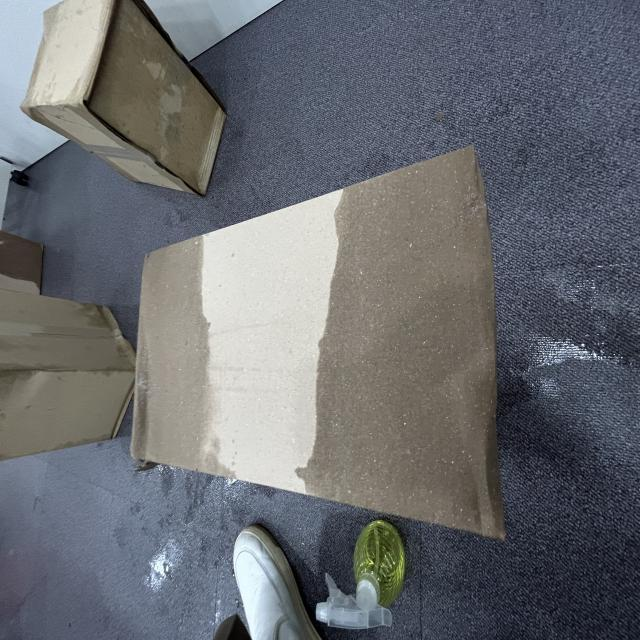wet: (292, 139, 500, 523), (128, 244, 219, 479)
